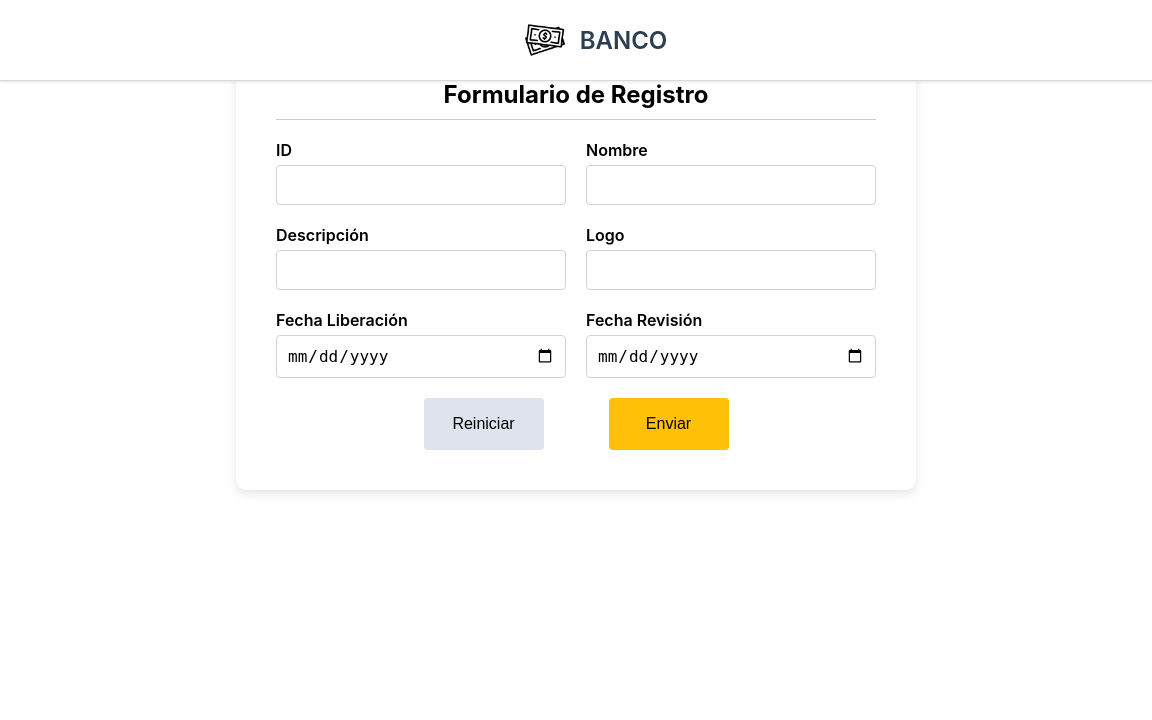
Scenario: ProductForm Component › shows validation errors on submit with invalid data
Step 1. Click the button "Enviar" → click(668, 424), box x1=608 y1=398 x2=728 y2=450
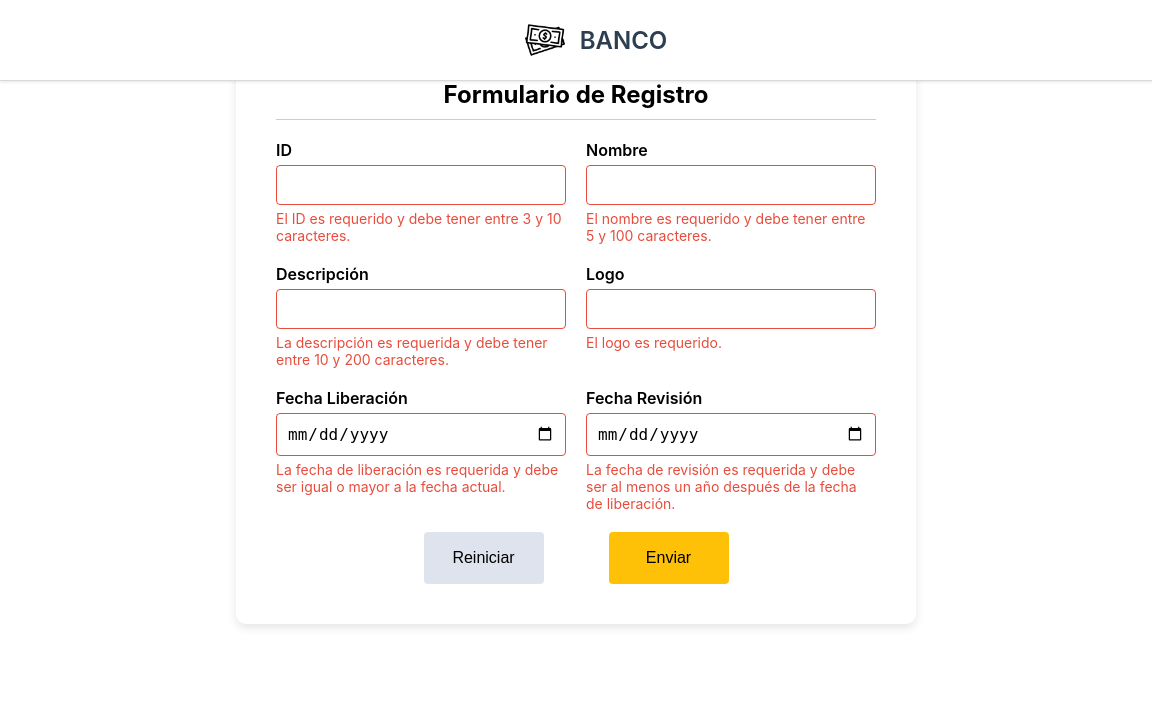
Expected: the text "El ID es requerido y debe tener entre 3 y 10 caracteres." is shown, x1=276 y1=210 x2=566 y2=244
Expected: the text "El nombre es requerido y debe tener entre 5 y 100 caracteres." is shown, x1=586 y1=210 x2=876 y2=244
Expected: the text "La descripción es requerida y debe tener entre 10 y 200 caracteres." is shown, x1=276 y1=334 x2=566 y2=368
